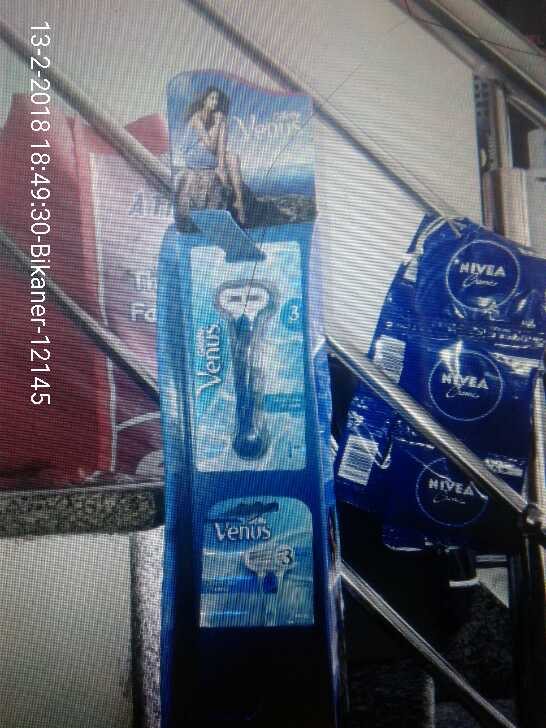venus: (183, 246, 310, 476), (199, 492, 324, 629)
